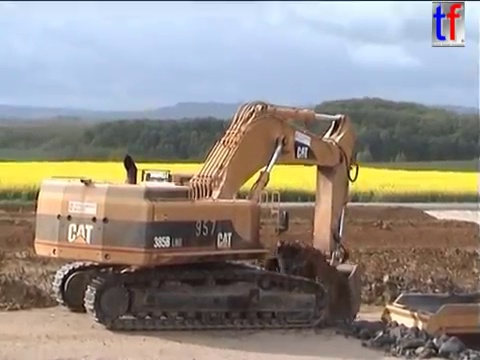excavator: (30, 96, 367, 335)
truck: (378, 287, 480, 360)
